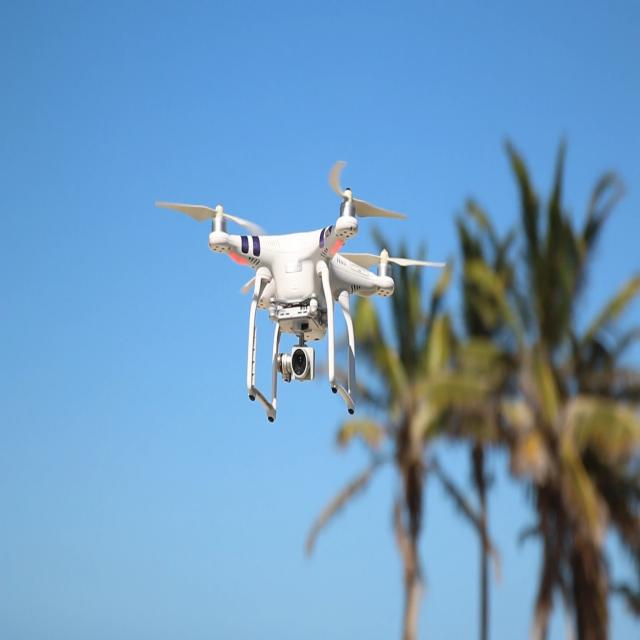Drone: (152, 153, 450, 424)
